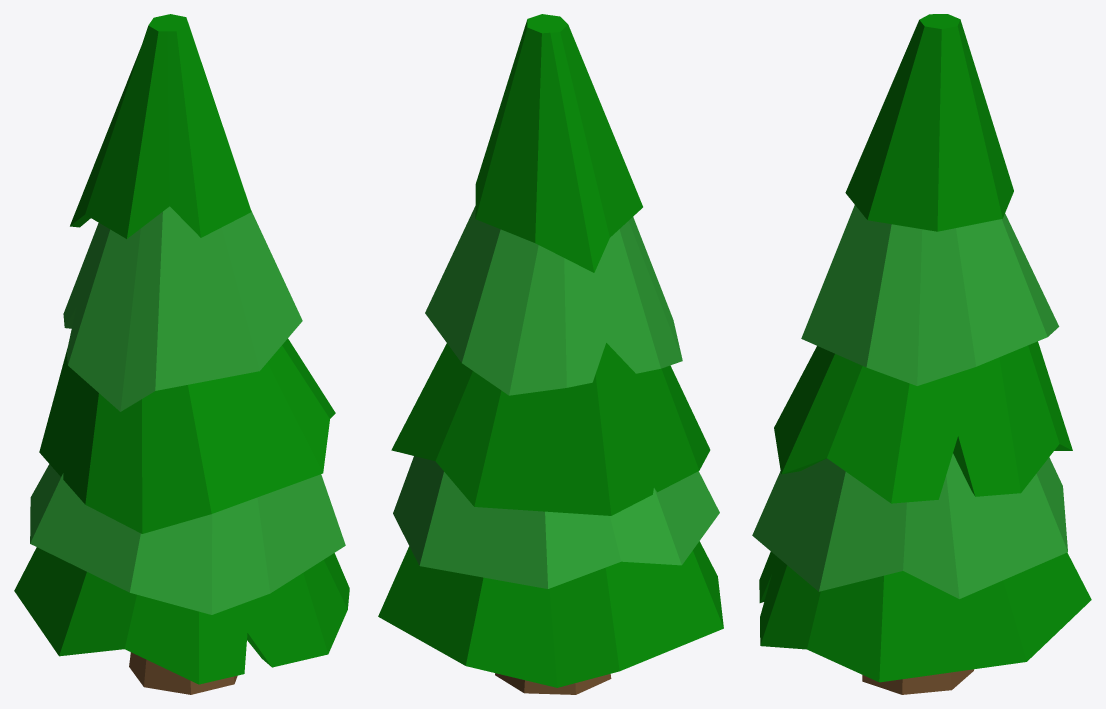
3 views of the same model, side by side, from view 1: azimuth 30°, elevation 25°; view 2: azimuth 150°, elevation 25°; view 3: azimuth 270°, elevation 25° (orthographic). The views are drawn at different scales.
Visible parts, largest first — view 1: Cylinder.003, Cylinder.004, Cylinder.002, Cylinder.001, Cylinder.005, Cylinder; view 2: Cylinder.003, Cylinder.001, Cylinder.004, Cylinder.005, Cylinder.002, Cylinder; view 3: Cylinder.003, Cylinder.004, Cylinder.002, Cylinder.001, Cylinder.005, Cylinder.
Boxes of the visible parts, bbox=[...] form: Cylinder.003: bbox=[39, 338, 335, 533]; Cylinder.004: bbox=[63, 206, 302, 411]; Cylinder.002: bbox=[30, 464, 345, 614]; Cylinder.001: bbox=[14, 547, 349, 684]; Cylinder.005: bbox=[70, 14, 251, 238]; Cylinder: bbox=[129, 652, 237, 694]; Cylinder.003: bbox=[391, 343, 710, 515]; Cylinder.001: bbox=[378, 541, 723, 687]; Cylinder.004: bbox=[425, 206, 682, 395]; Cylinder.005: bbox=[475, 14, 642, 272]; Cylinder.002: bbox=[393, 456, 719, 588]; Cylinder: bbox=[495, 673, 611, 694]; Cylinder.003: bbox=[774, 341, 1072, 503]; Cylinder.004: bbox=[801, 205, 1059, 385]; Cylinder.002: bbox=[752, 453, 1067, 598]; Cylinder.001: bbox=[759, 551, 1091, 682]; Cylinder.005: bbox=[845, 14, 1013, 231]; Cylinder: bbox=[862, 669, 973, 694].
Bounding box in the file's own units: 745 × 1563 × 743.
